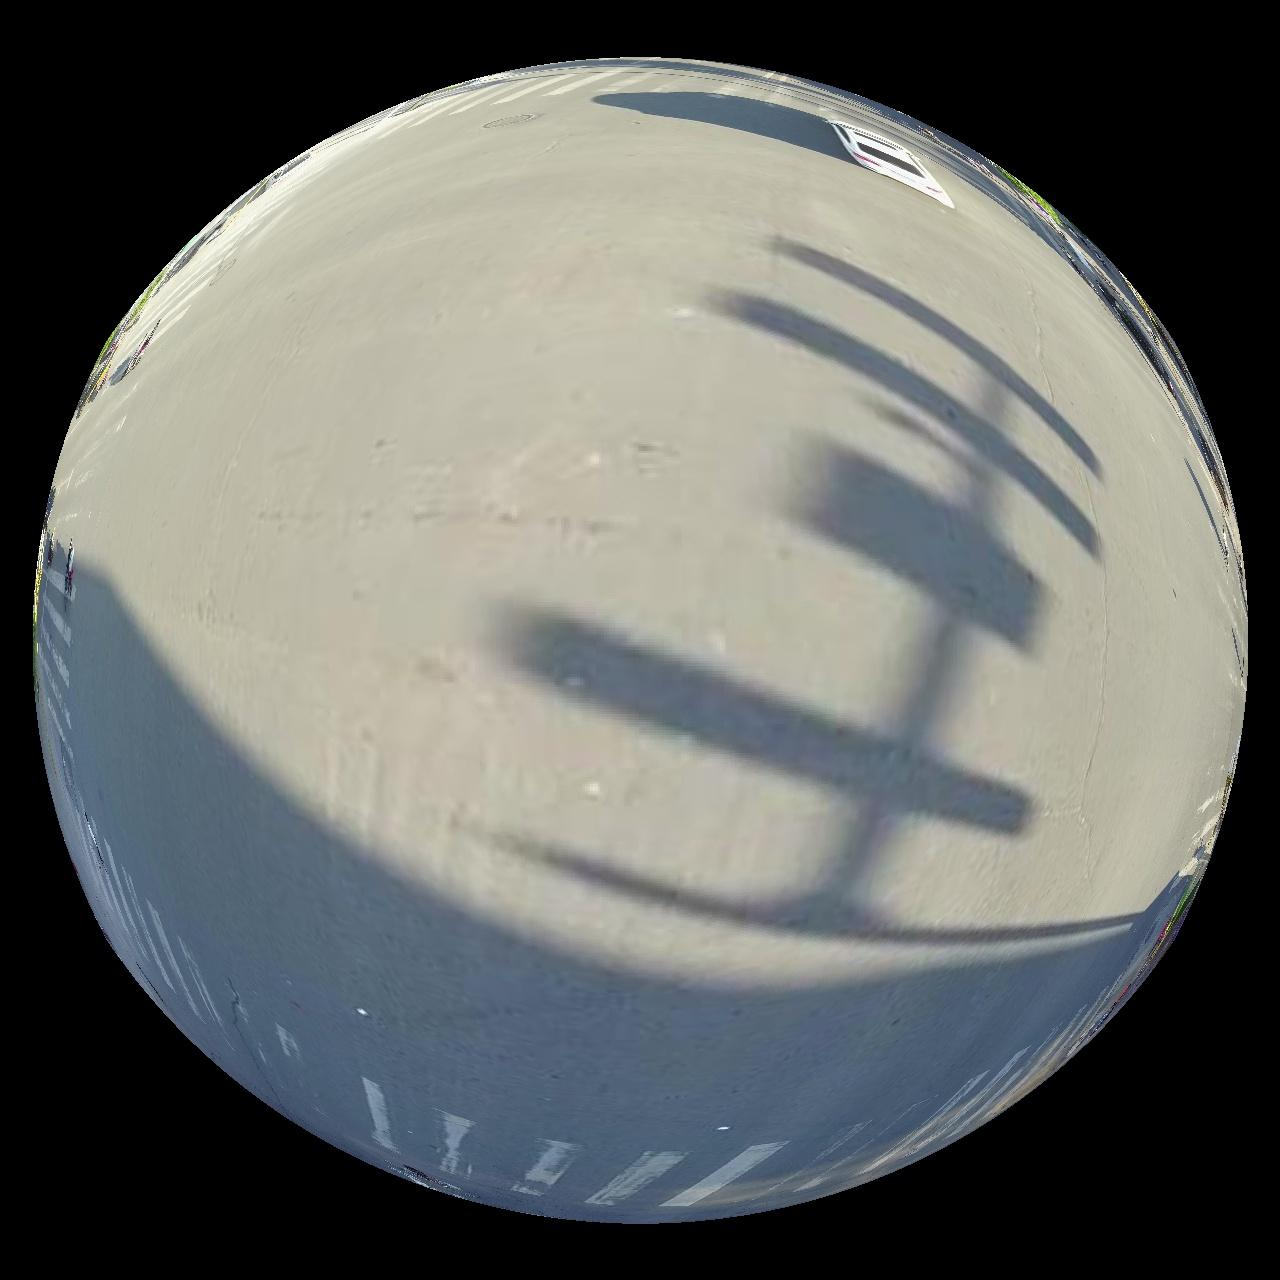cars: (829, 120, 956, 206)
